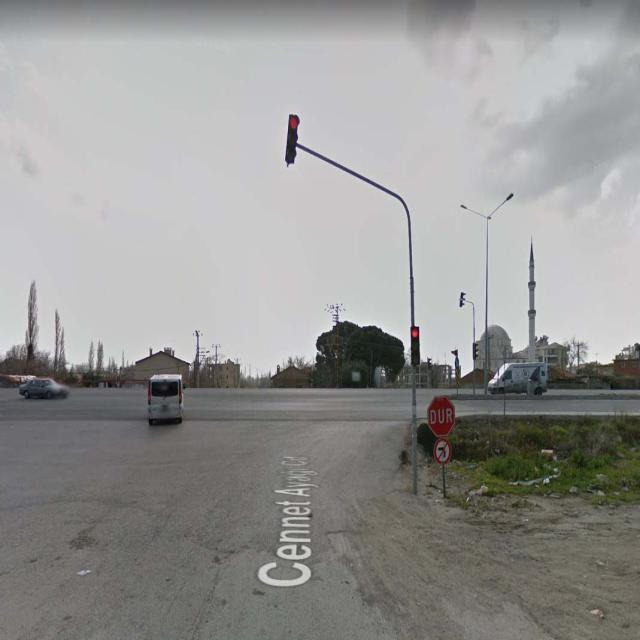dur: (428, 393, 456, 438)
kirmizi: (286, 113, 297, 161), (410, 326, 420, 364)
soladonulmez: (434, 438, 450, 466)
